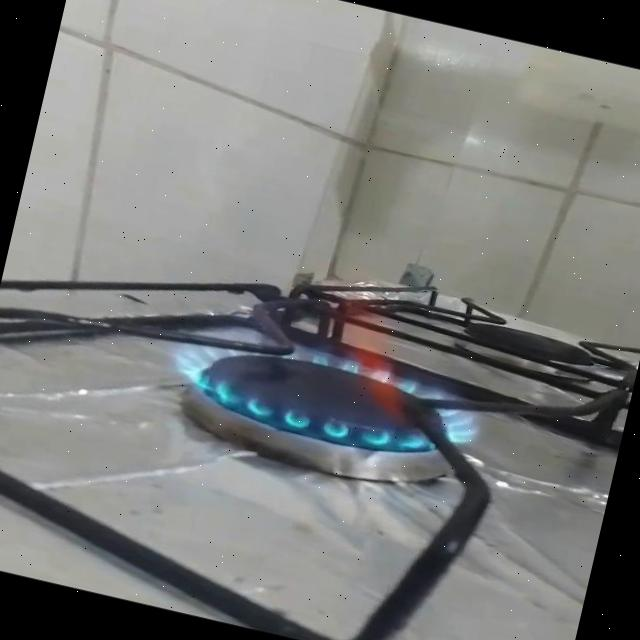fire: (156, 228, 509, 471)
